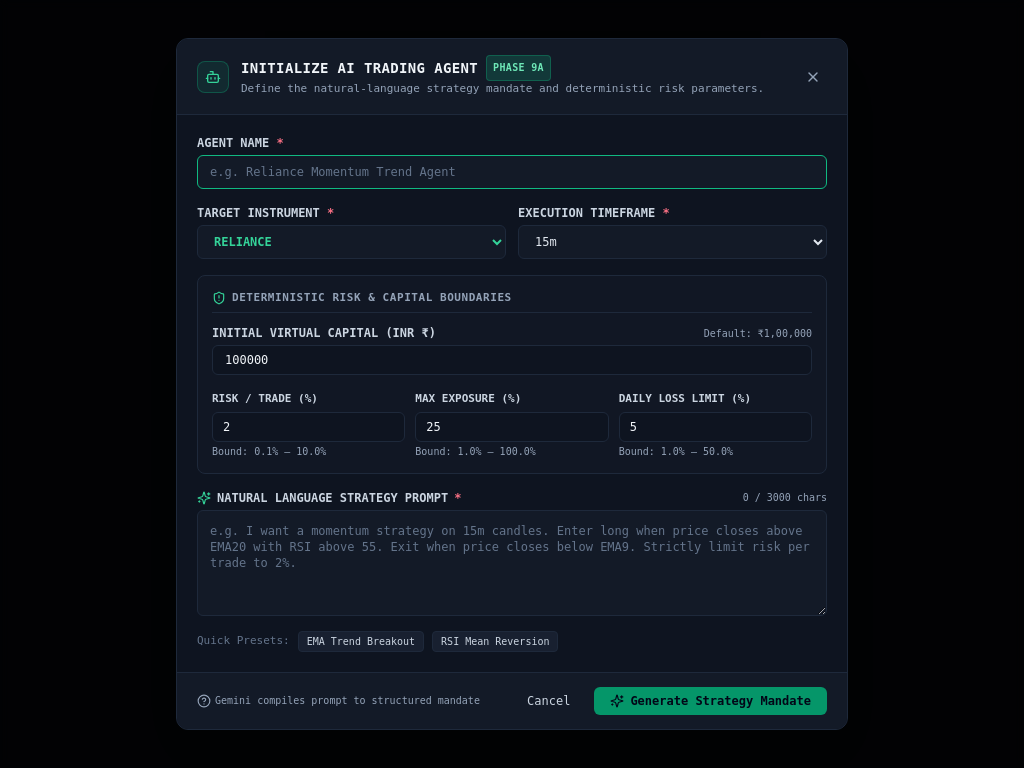
Phase 9A — AgentCreationModal › validates required agent name and strategy prompt text
The width and height of the screenshot is (1024, 768).
Click the button "Generate Strategy Mandate" at [711, 701], box [594, 687, 827, 715]
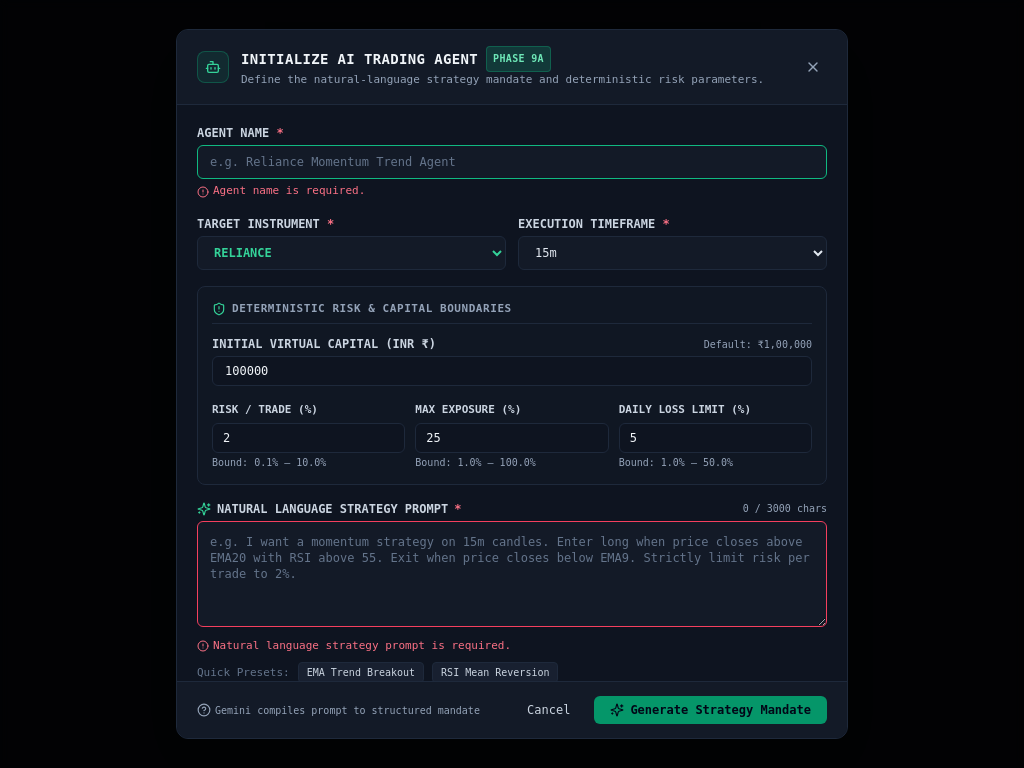
Expected: the text "Agent name is required." is shown, [197, 184, 365, 198]
Expected: the text "Natural language strategy prompt is required." is shown, [197, 639, 511, 652]
// Test prompt shorter than 3 characters
Type "Momentum Bot" into the field labelled "AGENT NAME *" at [512, 162], box [197, 145, 827, 179]
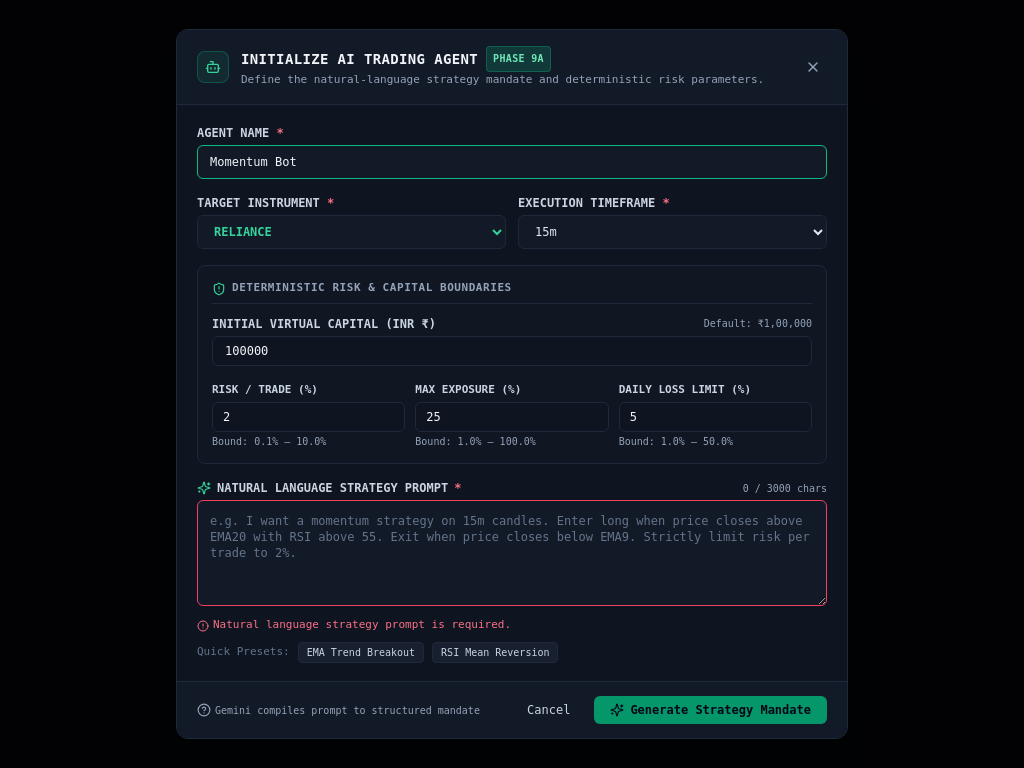
Replace the text in the text box labelled "NATURAL LANGUAGE STRATEGY PROMPT *" with "Hi" at [512, 553], box [197, 500, 827, 606]
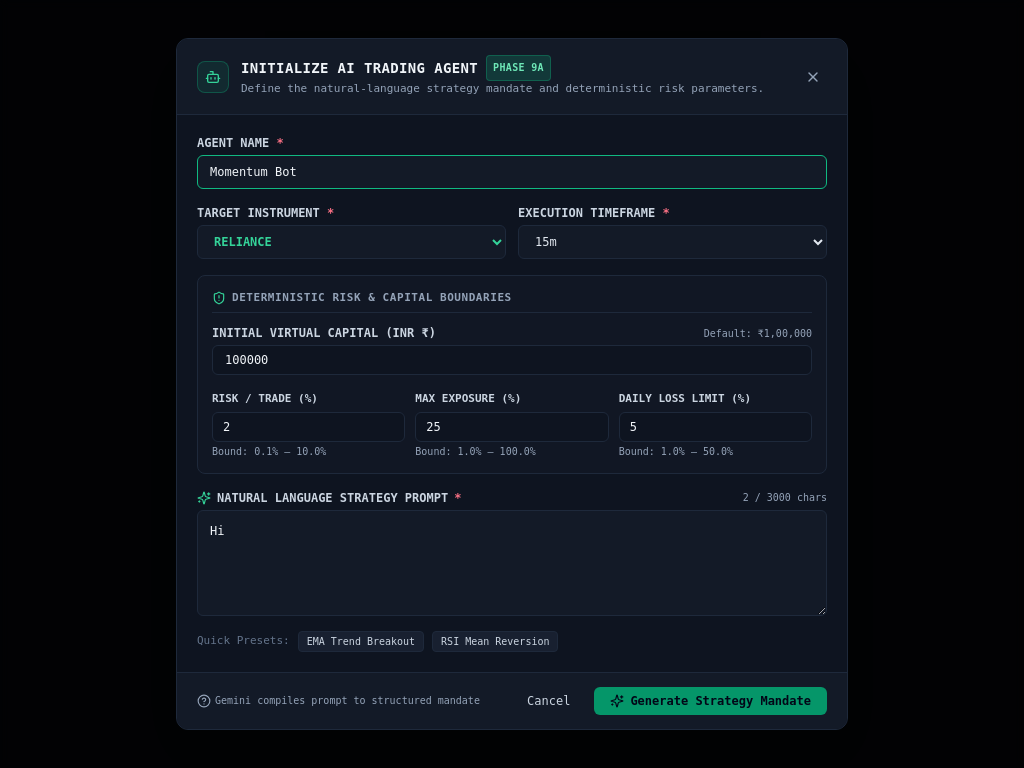
Click the button "Generate Strategy Mandate" at [711, 701], box [594, 687, 827, 715]
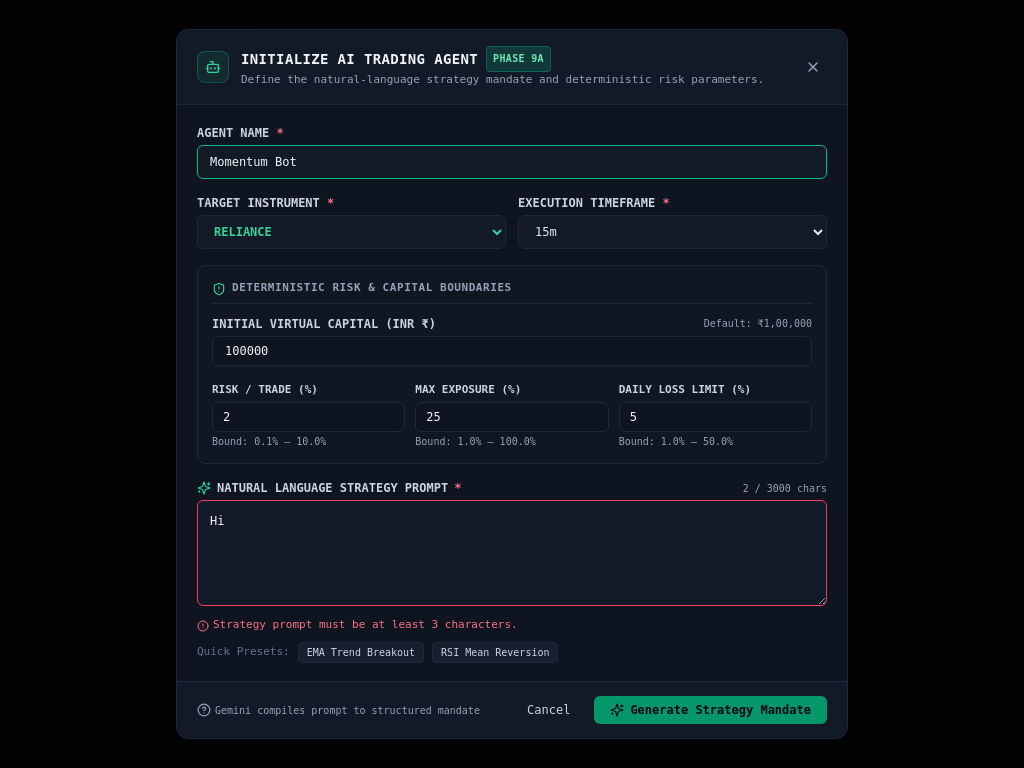
Expected: the text "Strategy prompt must be at least 3 characters." is shown, [197, 618, 518, 632]
